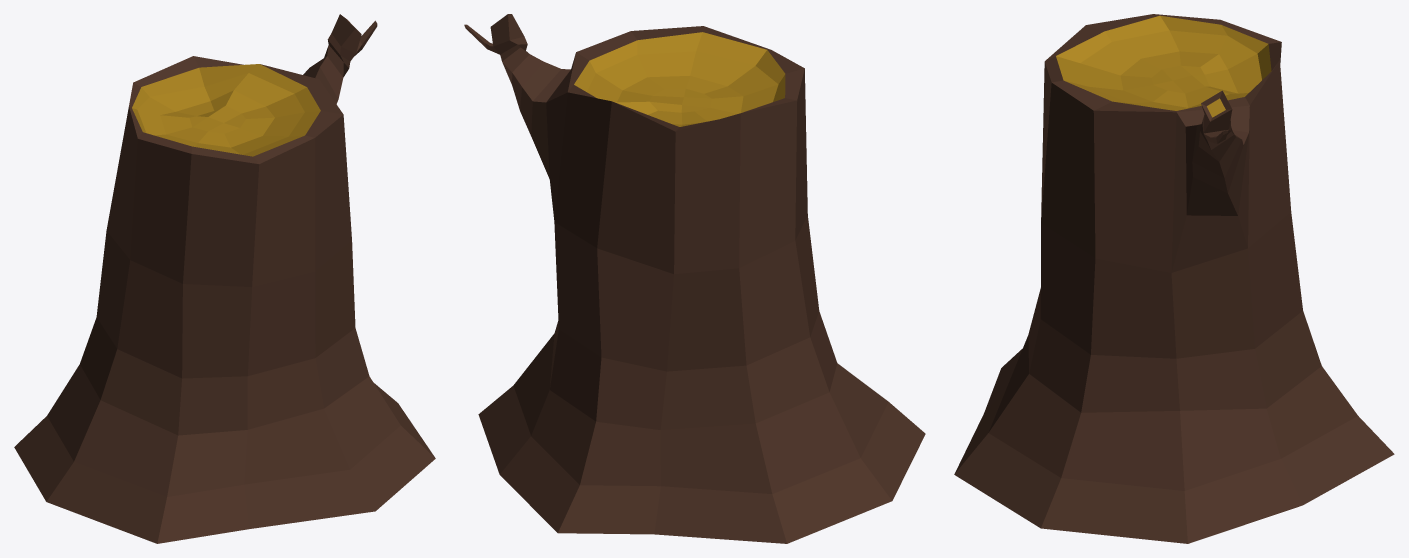
Rendered from stump_001.fbx.
3 renders of one model, left to right at view 1: azimuth 30°, elevation 25°; view 2: azimuth 150°, elevation 25°; view 3: azimuth 270°, elevation 25°, orthographic. The views are drawn at different scales.
Visible parts, largest first — view 1: stump_001; view 2: stump_001; view 3: stump_001.
Boxes of the visible parts, box(x1,y1,x2,y2) form: stump_001: box(14, 14, 435, 543); stump_001: box(464, 14, 925, 543); stump_001: box(954, 14, 1394, 543).
Bounding box in the file's own units: 553 × 561 × 521.
